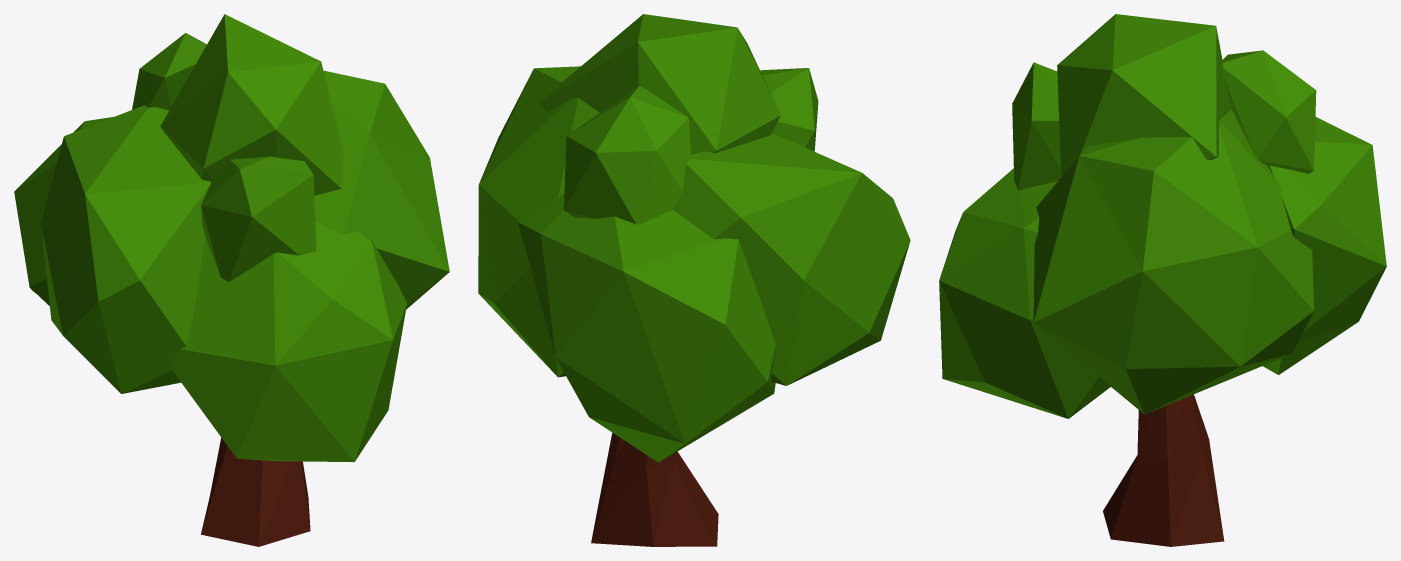
The model's file is M_Tree1.FBX.
3 renders of one model, left to right at view 1: azimuth 30°, elevation 25°; view 2: azimuth 150°, elevation 25°; view 3: azimuth 270°, elevation 25°, orthographic. The views are drawn at different scales.
Visible parts, largest first — view 1: GeoSphere008, Cylinder001; view 2: GeoSphere008, Cylinder001; view 3: GeoSphere008, Cylinder001.
Boxes of the visible parts, x1,y1,x2,y2 form: GeoSphere008: (14, 14, 449, 462); Cylinder001: (201, 438, 310, 546); GeoSphere008: (478, 14, 910, 462); Cylinder001: (591, 433, 718, 546); GeoSphere008: (939, 14, 1386, 418); Cylinder001: (1103, 394, 1224, 546).
Bounding box in the file's own units: 523 × 675 × 549.
